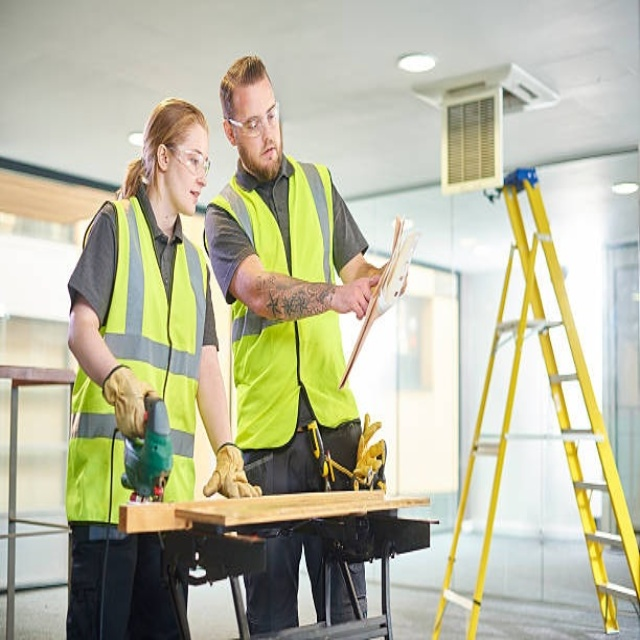Gafas: (227, 102, 280, 137), (165, 144, 211, 177)
Guantes: (101, 364, 154, 441), (205, 441, 265, 500)
Sin_guantes: (324, 273, 379, 325)
Sin_mascara: (256, 138, 279, 171), (180, 184, 204, 215)
